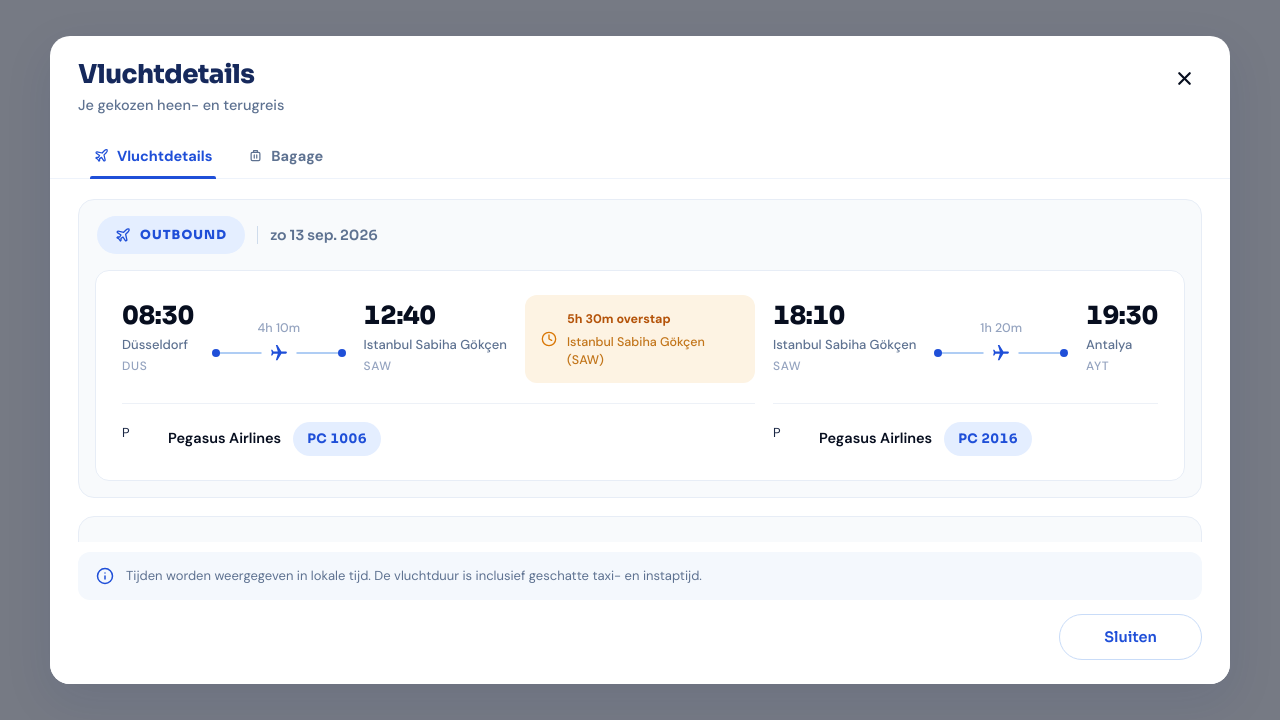
Test: the flight-details dialog › leaves the allowance to the baggage tab, and never invents a cabin weight
The width and height of the screenshot is (1280, 720).
Click the tab "Bagage" at (286, 156), box 232,134 -> 339,178
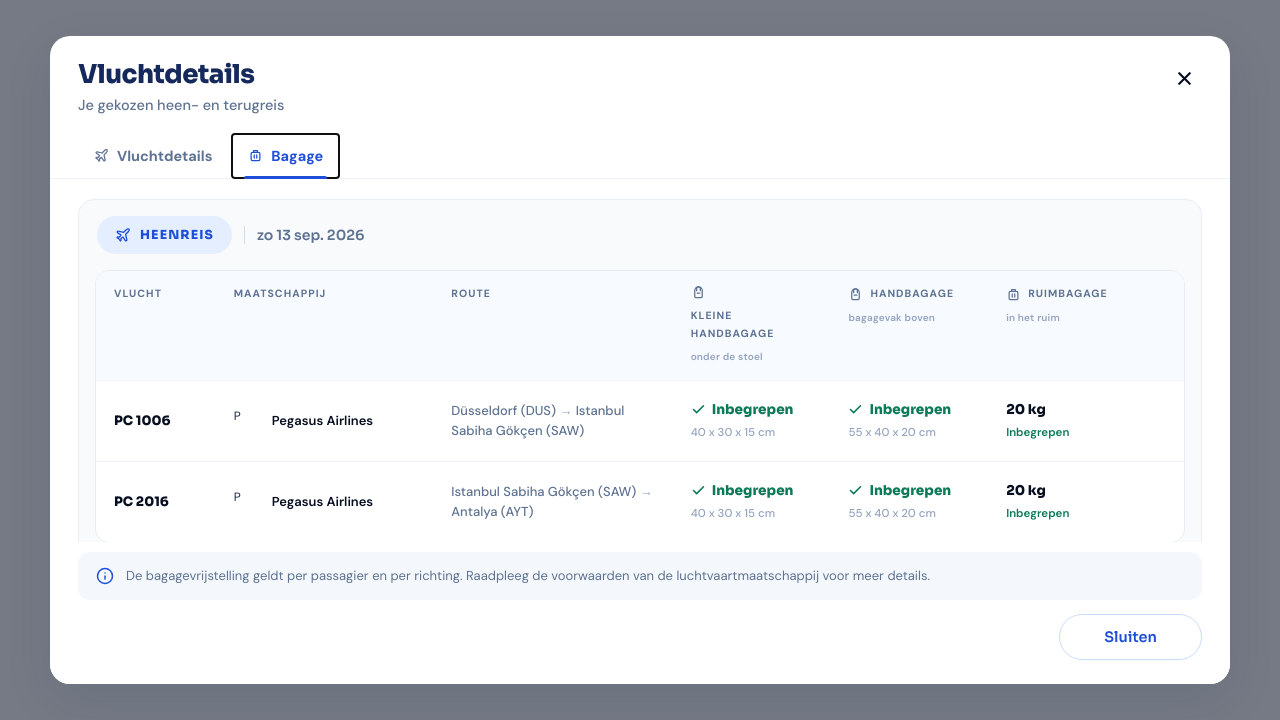
Expected: the table with class "fdm-table" shows "20 kg", 1006,401 -> 1046,418
Expected: the table with class "fdm-table" shows "Inbegrepen", 712,401 -> 793,418
